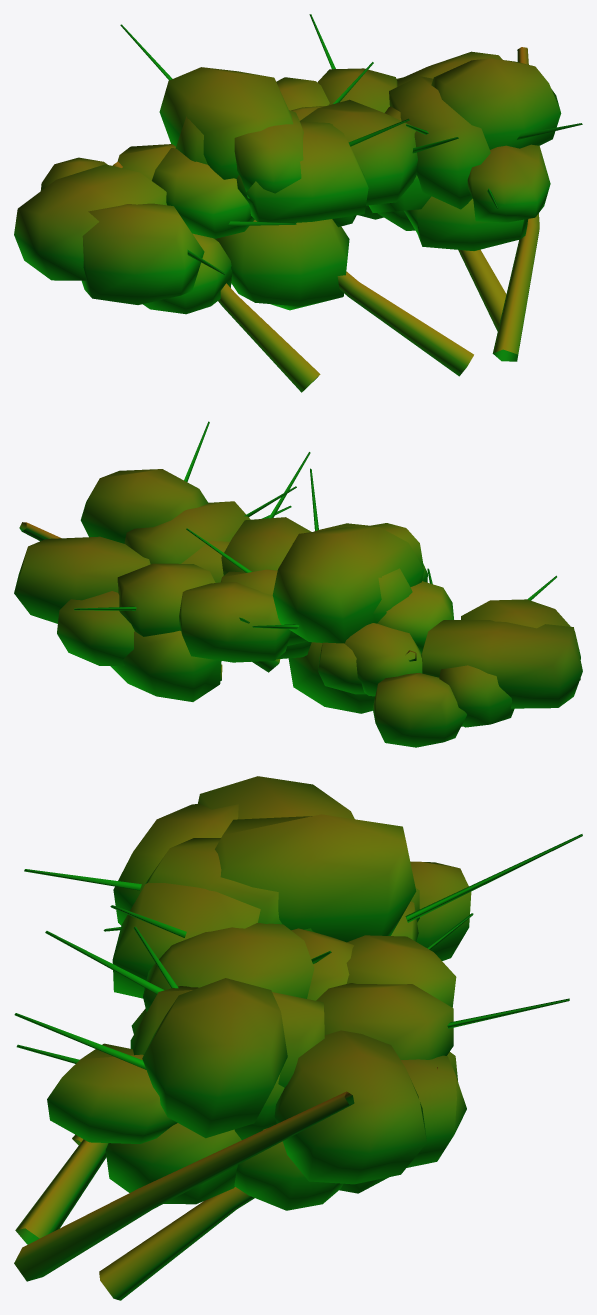
The model's file is scrub_clump_b.glb.
3 renders of one model, top to bottom at view 1: azimuth 30°, elevation 25°; view 2: azimuth 150°, elevation 25°; view 3: azimuth 270°, elevation 25°, orthographic. The views are drawn at different scales.
Visible parts, largest first — view 1: scrub_clump_b; view 2: scrub_clump_b; view 3: scrub_clump_b.
Boxes of the visible parts, left/top/right/bottom form: scrub_clump_b: left=14, top=14, right=582, bottom=392; scrub_clump_b: left=14, top=421, right=582, bottom=747; scrub_clump_b: left=14, top=776, right=582, bottom=1300.
Size of what is drawn, in the model's own units: 2.18 by 1.01 by 1.49.
